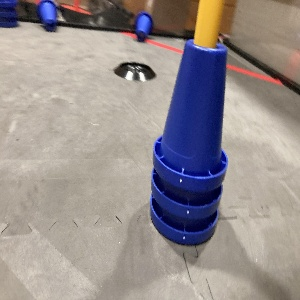Blue_1: (37, 0, 59, 31), (133, 9, 153, 42)
Blue_3: (150, 38, 227, 244), (0, 0, 19, 26)
